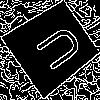U: (26, 22, 85, 79)
